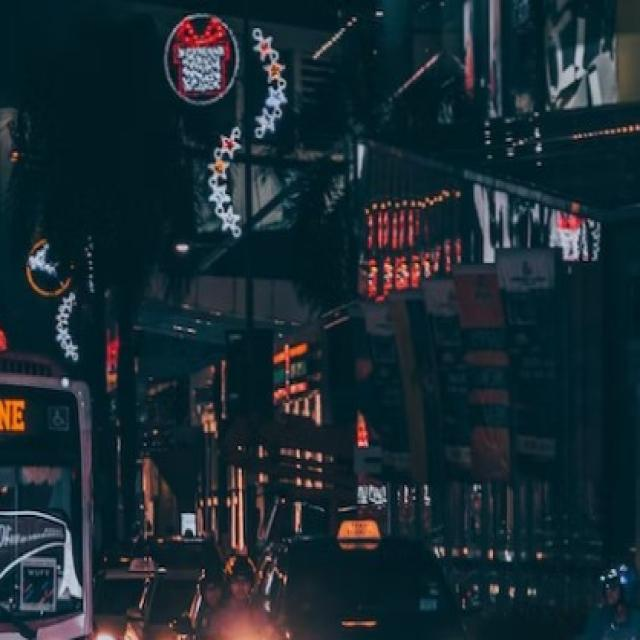bus: (0, 349, 100, 640)
car: (262, 517, 487, 640), (122, 565, 224, 640)
motorbike: (179, 548, 284, 640), (569, 550, 640, 639)
